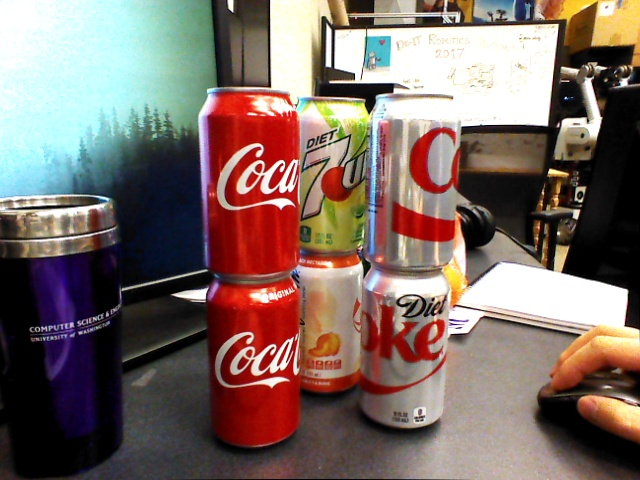can_coke: (197, 86, 299, 277), (207, 276, 300, 448)
can_diet_coke: (363, 91, 460, 267), (362, 268, 447, 429)
can_diet_seven_up: (299, 94, 367, 253)
can_talking_rain_peach_nectarine: (298, 254, 362, 392)
